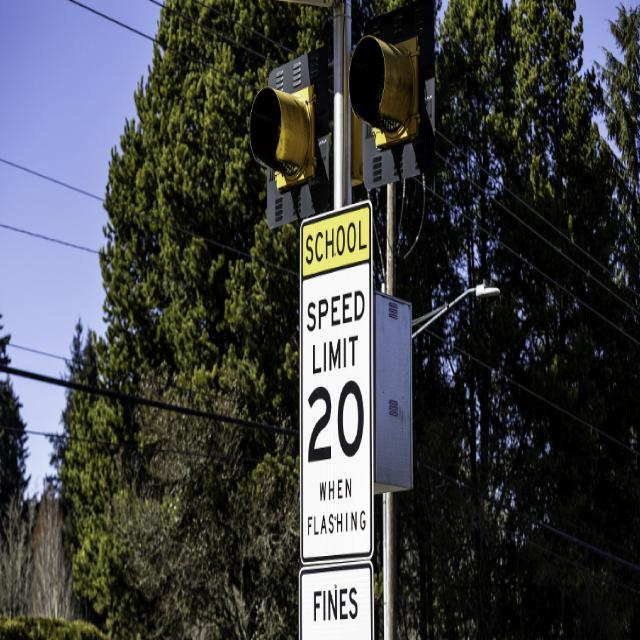speedLimit20: (302, 283, 370, 473)
